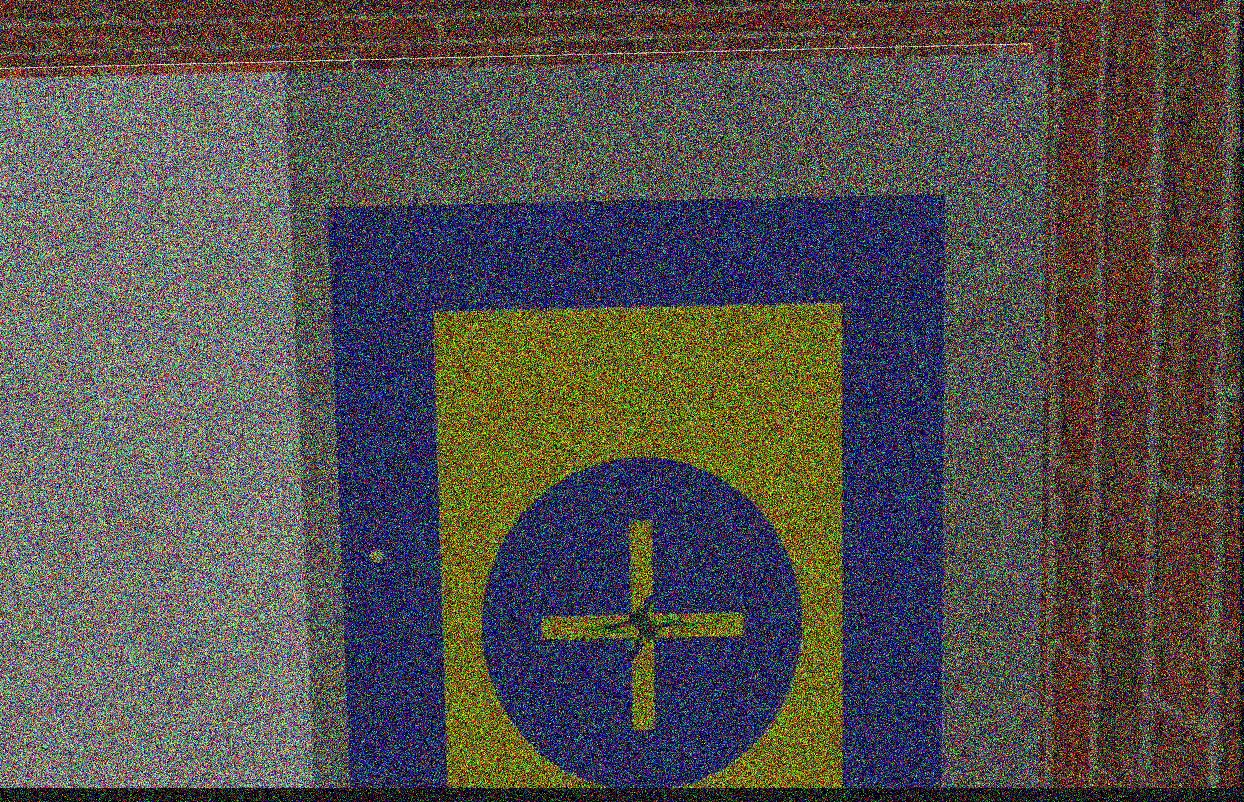large_base: (329, 198, 946, 792)
